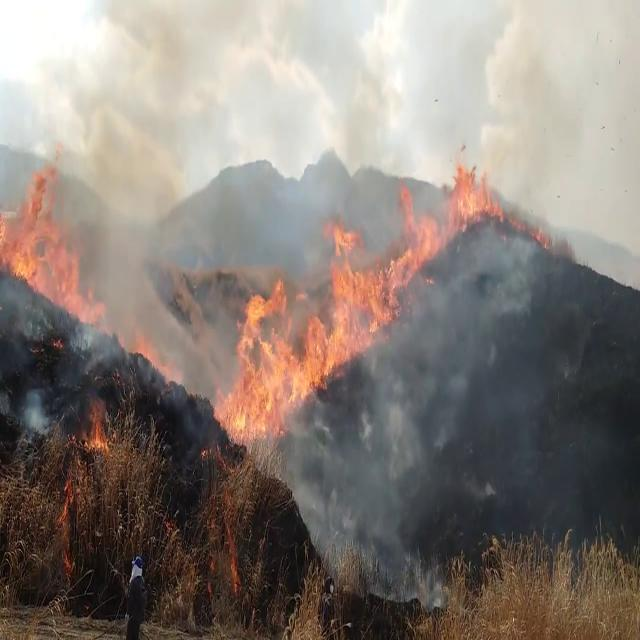Fire: (218, 204, 411, 441), (0, 156, 90, 322), (402, 148, 500, 276), (81, 396, 114, 460)
Smoke: (328, 246, 580, 578), (58, 2, 225, 397)
